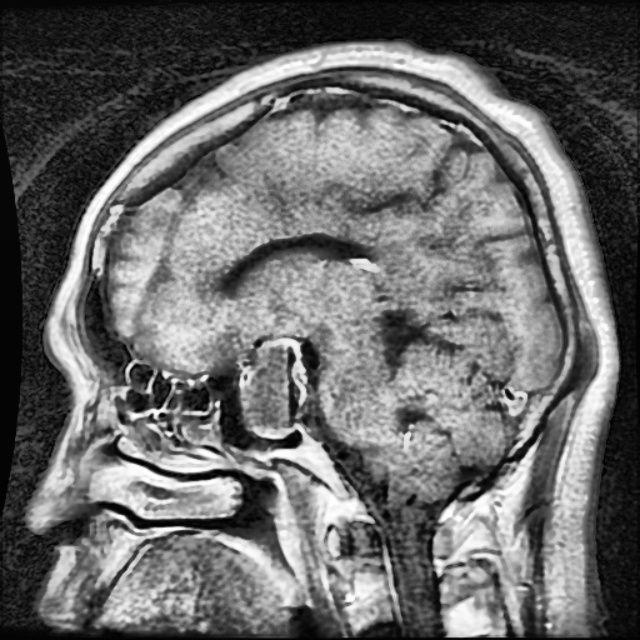Pituitary: (243, 340, 305, 434)
